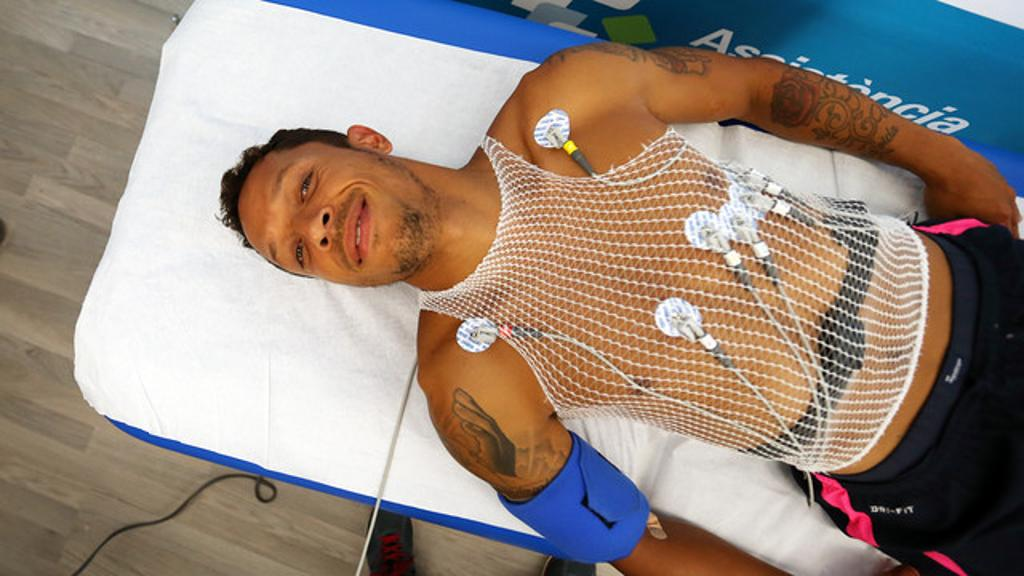face: (240, 156, 422, 280)
